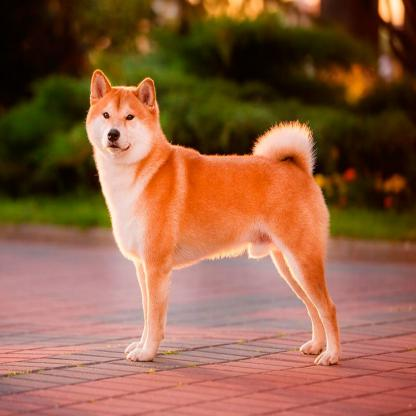Siba-ny: (80, 63, 362, 370)
